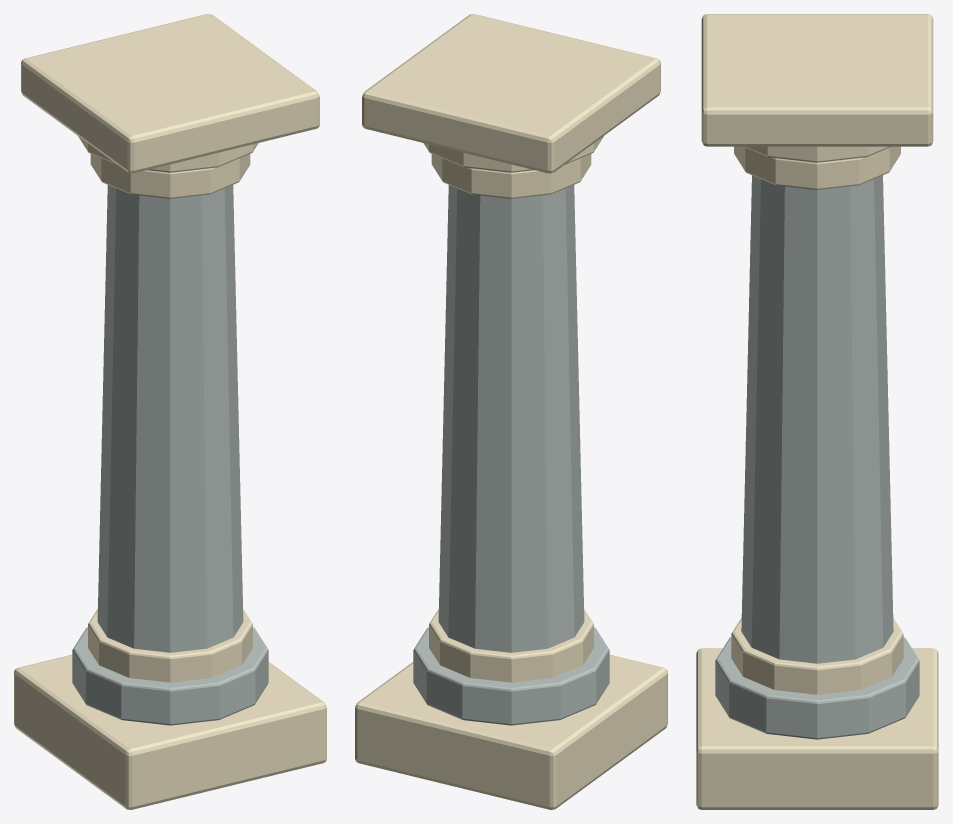
Rendered from S011_foam_column.glb.
3 renders of one model, left to right at view 1: azimuth 30°, elevation 25°; view 2: azimuth 150°, elevation 25°; view 3: azimuth 270°, elevation 25°, orthographic. The views are drawn at different scales.
Visible parts, largest first — view 1: faceted_column, column_abacus, column_plinth, column_lower_step, column_ring, column_ring.001, column_ring.002; view 2: faceted_column, column_abacus, column_plinth, column_lower_step, column_ring, column_ring.001, column_ring.002; view 3: faceted_column, column_abacus, column_plinth, column_lower_step, column_ring, column_ring.001, column_ring.002.
Boxes of the visible parts, x1,y1,x2,y2 form: faceted_column: (97,185,243,652); column_abacus: (21,14,319,173); column_plinth: (14,654,326,809); column_lower_step: (72,627,268,725); column_ring: (88,608,252,682); column_ring.001: (90,154,250,198); column_ring.002: (78,136,258,172); faceted_column: (438,185,584,652); column_abacus: (362,14,660,173); column_plinth: (355,654,667,809); column_lower_step: (413,627,609,725); column_ring: (429,608,593,682); column_ring.001: (431,154,591,198); column_ring.002: (423,136,603,172); faceted_column: (741,175,893,663); column_abacus: (701,14,933,146); column_plinth: (696,648,938,809); column_lower_step: (715,637,919,739); column_ring: (731,618,903,694); column_ring.001: (734,146,900,189); column_ring.002: (744,146,890,162).
Bounding box in the file's own units: 0.9 × 2.87 × 0.9.
